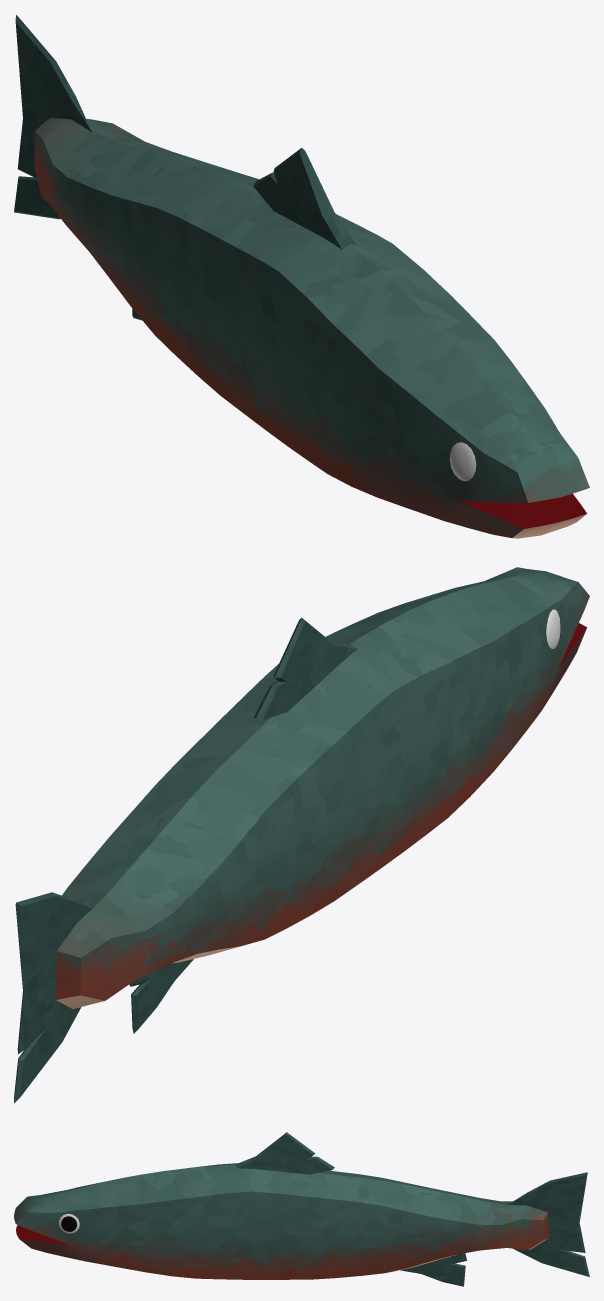
File: fish_model.glb
The picture shows the model from 3 angles, top to bottom: view 1: azimuth 30°, elevation 25°; view 2: azimuth 150°, elevation 25°; view 3: azimuth 270°, elevation 25°; orthographic projection. The views are drawn at different scales.
Parts seen in each view (by area): view 1: fish; view 2: fish; view 3: fish.
Part boxes in pixels (<box>): fish: <box>14,15,589,538</box>; fish: <box>14,567,589,1102</box>; fish: <box>14,1132,589,1286</box>.
Size of the model in its own units: 0.0807 by 0.1745 by 0.5892.
Materials: 6 (3 with a texture image).
